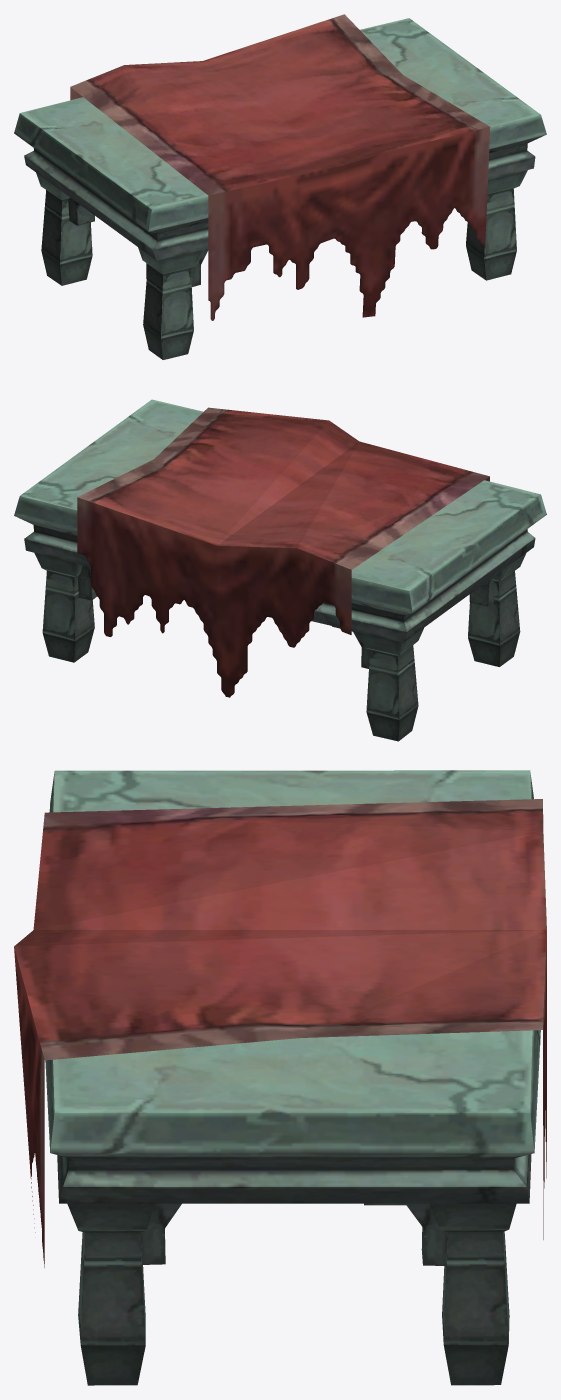
Rendered from crypt_table01.fbx.
The picture shows the model from 3 angles, top to bottom: view 1: azimuth 30°, elevation 25°; view 2: azimuth 150°, elevation 25°; view 3: azimuth 270°, elevation 25°; orthographic projection. The views are drawn at different scales.
Visible parts, largest first — view 1: obj1; view 2: obj1; view 3: obj1.
Part boxes in pixels (x1=…): obj1: x1=14, y1=14, x2=546, y2=359; obj1: x1=14, y1=399, x2=546, y2=741; obj1: x1=14, y1=770, x2=546, y2=1385.
Size of the model in its own units: 3.33 by 1.53 by 2.14.
